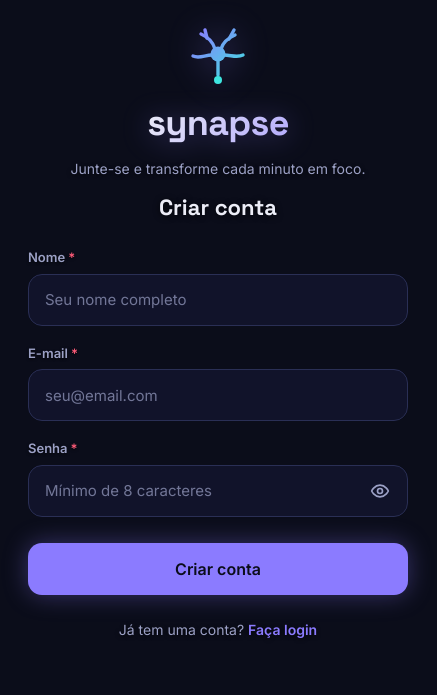
Página de Cadastro › exibe erro para formato de e-mail inválido
The image size is (437, 695).
Type "Ana Souza" into the field labelled "Nome*" at (218, 300), box [28,274,408,326]
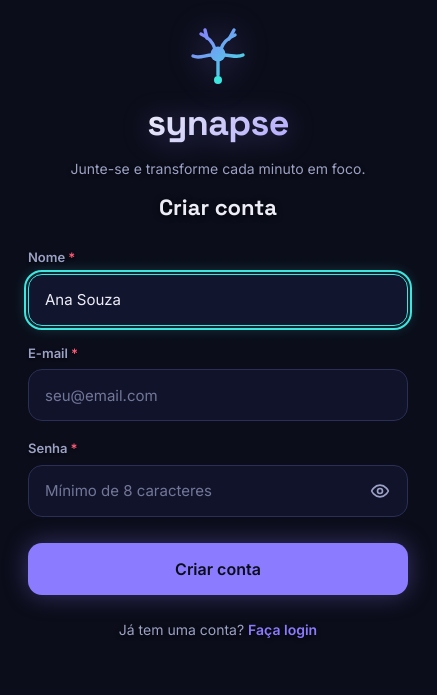
Type "emailinvalido@" into the field labelled "E-mail*" at (218, 395), box [28,369,408,421]
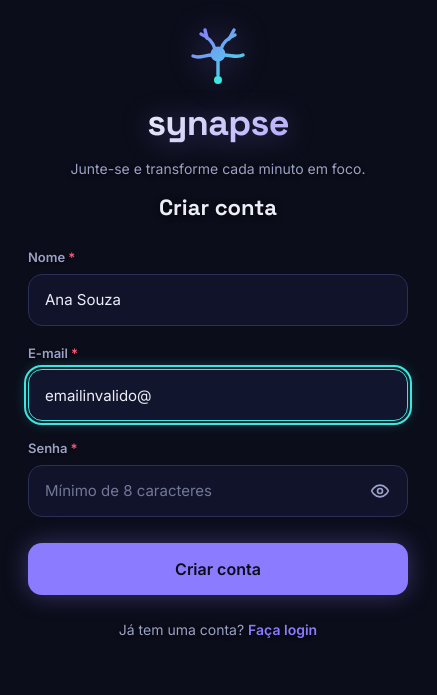
Type "123456" into the password field labelled "Senha*" at (218, 491), box [28,465,408,517]
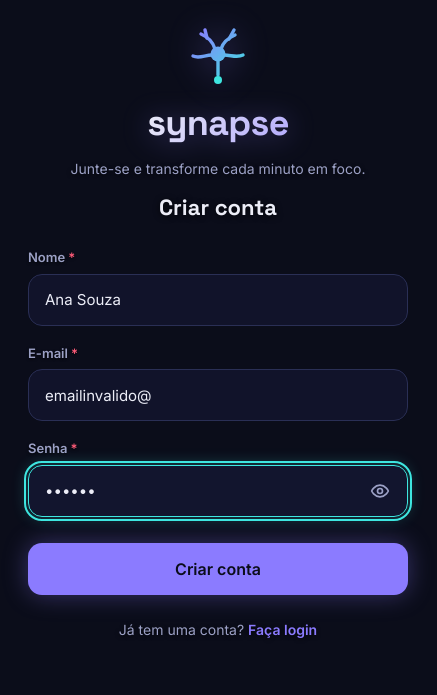
Click the button "Criar conta" at (218, 569), box [28,543,408,595]
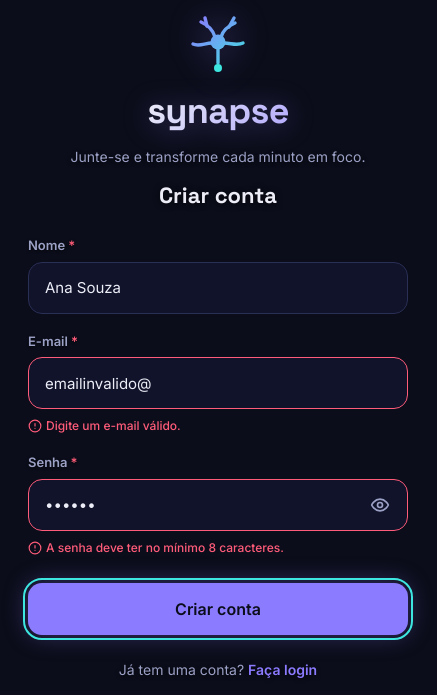
Result: the text "Digite um e-mail válido." is shown at [28,418,181,433]
